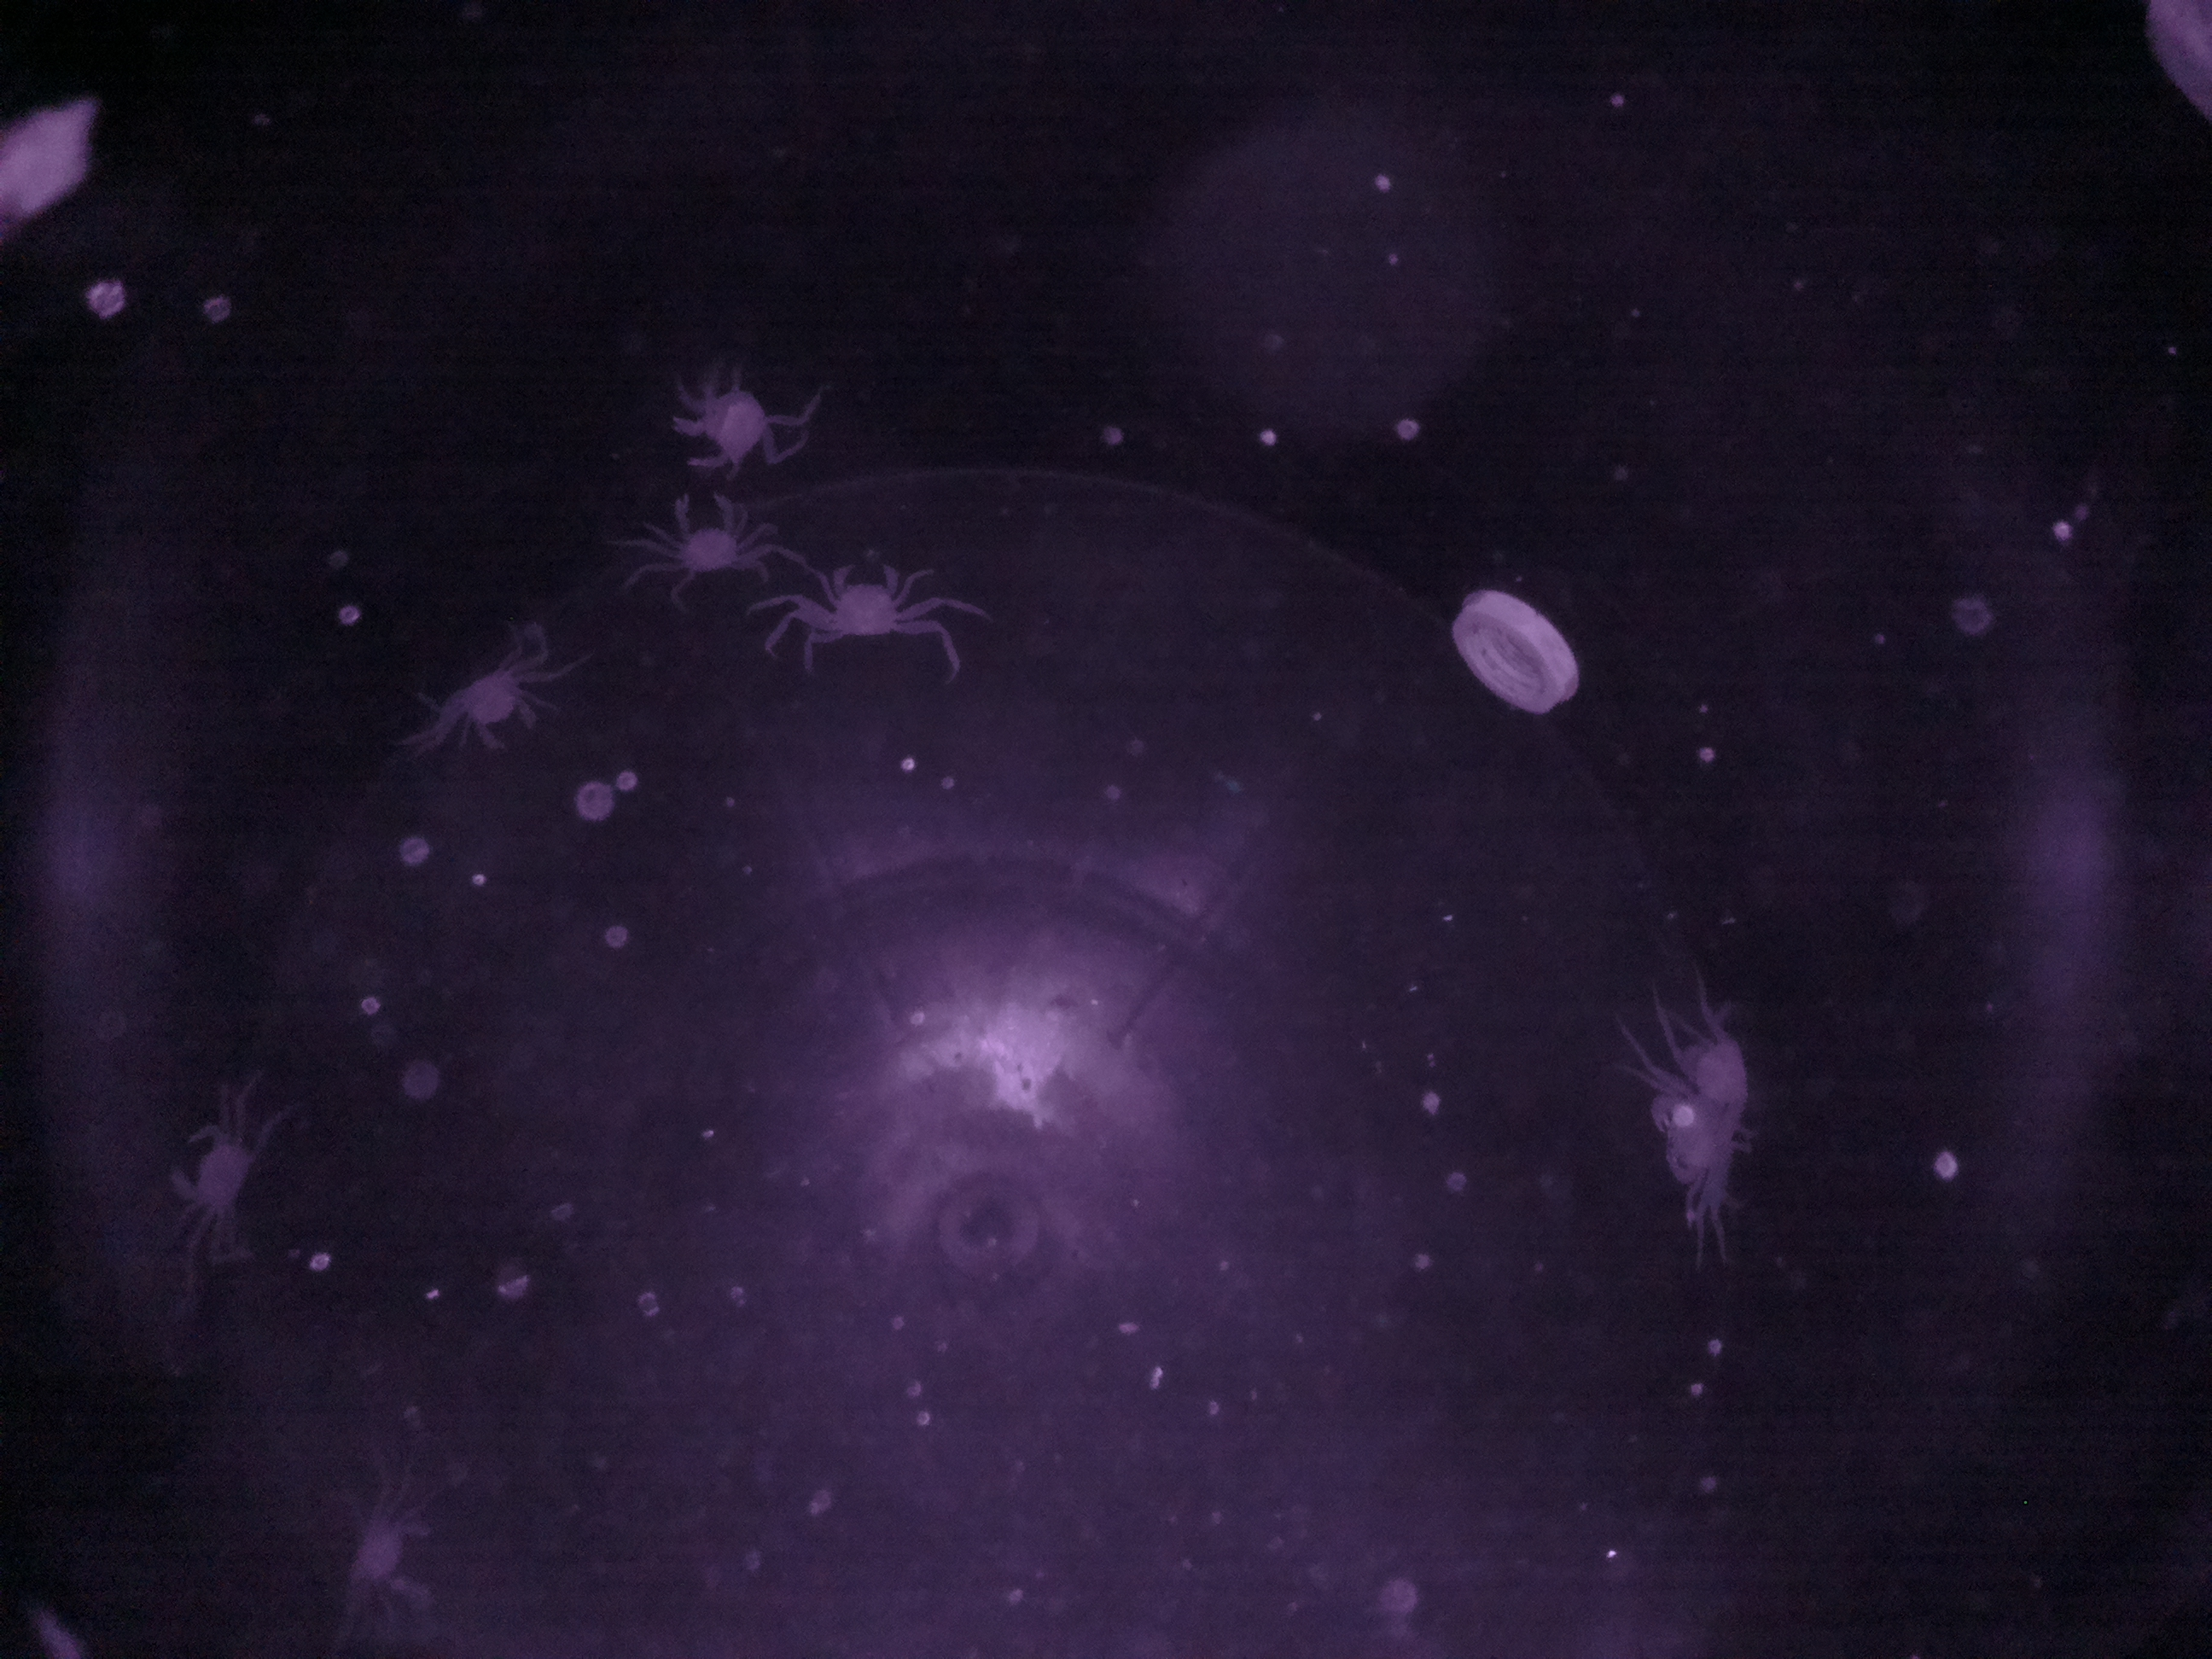Crab: (449, 645, 554, 772), (808, 549, 920, 648), (657, 483, 754, 589)
